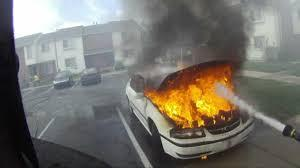fire: (137, 63, 257, 143)
smoke: (74, 0, 299, 100)
